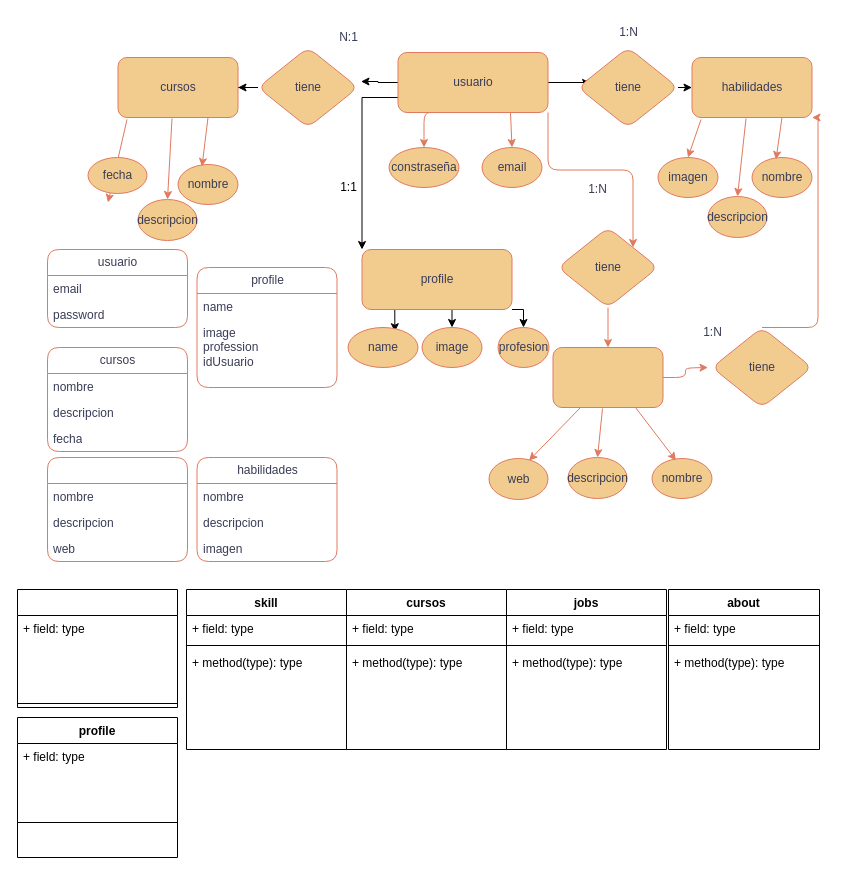
This 844x875 diagram has some shape labels left out. Each missing label, with the box of its shape:
trabajos: (46, 456, 188, 562)
trabajos realizados: (552, 346, 663, 408)
user: (16, 588, 178, 708)
